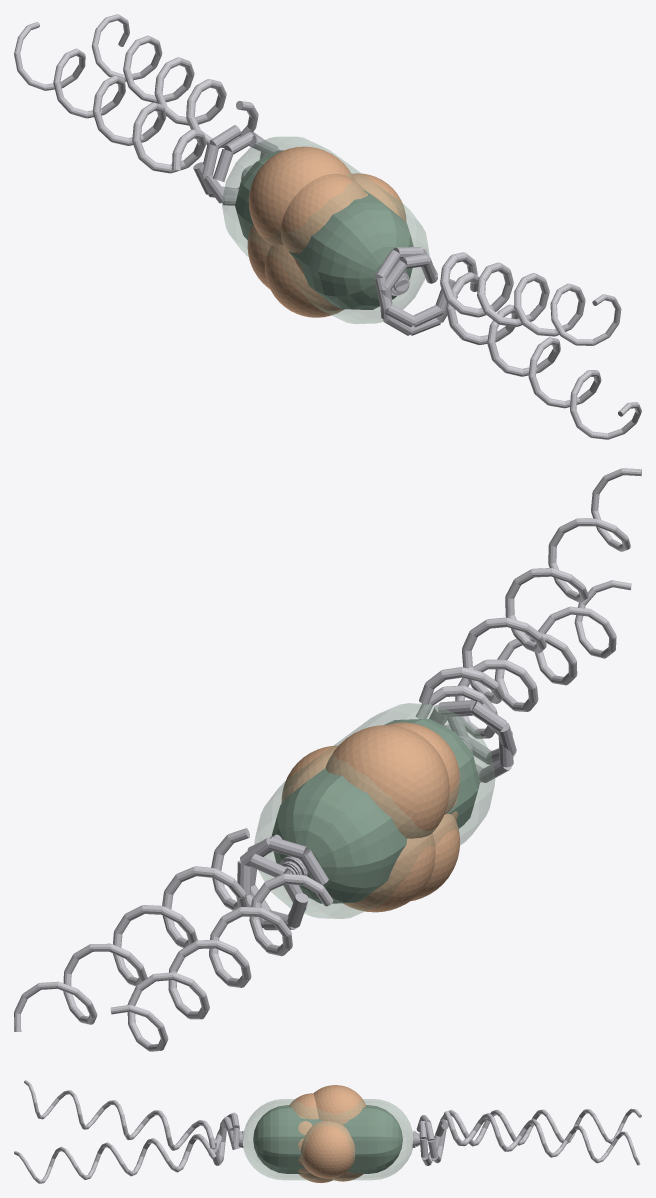
The model's file is bacteria_bacteria_ficticia_alfa_8280297.glb.
3 views of the same model, one above another, from view 1: azimuth 30°, elevation 25°; view 2: azimuth 150°, elevation 25°; view 3: azimuth 270°, elevation 25° (orthographic). The views are drawn at different scales.
Parts seen in each view (by area): view 1: geometry_0, geometry_1, geometry_426, geometry_423, geometry_424, geometry_425, geometry_427; view 2: geometry_0, geometry_1, geometry_426, geometry_427, geometry_424, geometry_423, geometry_425; view 3: geometry_0, geometry_1, geometry_425, geometry_426, geometry_423, geometry_422, geometry_424, geometry_427.
Boxes of the visible parts, left/top/right/bottom form: geometry_0: left=222, top=137, right=429, bottom=323; geometry_1: left=235, top=150, right=413, bottom=309; geometry_426: left=248, top=146, right=354, bottom=245; geometry_423: left=280, top=173, right=365, bottom=252; geometry_424: left=264, top=245, right=343, bottom=317; geometry_425: left=352, top=173, right=406, bottom=223; geometry_427: left=247, top=225, right=271, bottom=288; geometry_0: left=254, top=703, right=494, bottom=918; geometry_1: left=271, top=719, right=479, bottom=903; geometry_426: left=325, top=725, right=449, bottom=838; geometry_427: left=343, top=833, right=435, bottom=912; geometry_424: left=410, top=813, right=460, bottom=901; geometry_423: left=387, top=722, right=460, bottom=814; geometry_425: left=281, top=745, right=338, bottom=803; geometry_0: left=243, top=1099, right=413, bottom=1179; geometry_1: left=253, top=1105, right=402, bottom=1173; geometry_425: left=300, top=1121, right=355, bottom=1178; geometry_426: left=313, top=1085, right=366, bottom=1124; geometry_423: left=289, top=1093, right=318, bottom=1119; geometry_422: left=298, top=1115, right=312, bottom=1173; geometry_424: left=298, top=1174, right=332, bottom=1182; geometry_427: left=332, top=1172, right=363, bottom=1181.
Bounding box in the file's own units: 2.77 × 3.48 × 17.89.
